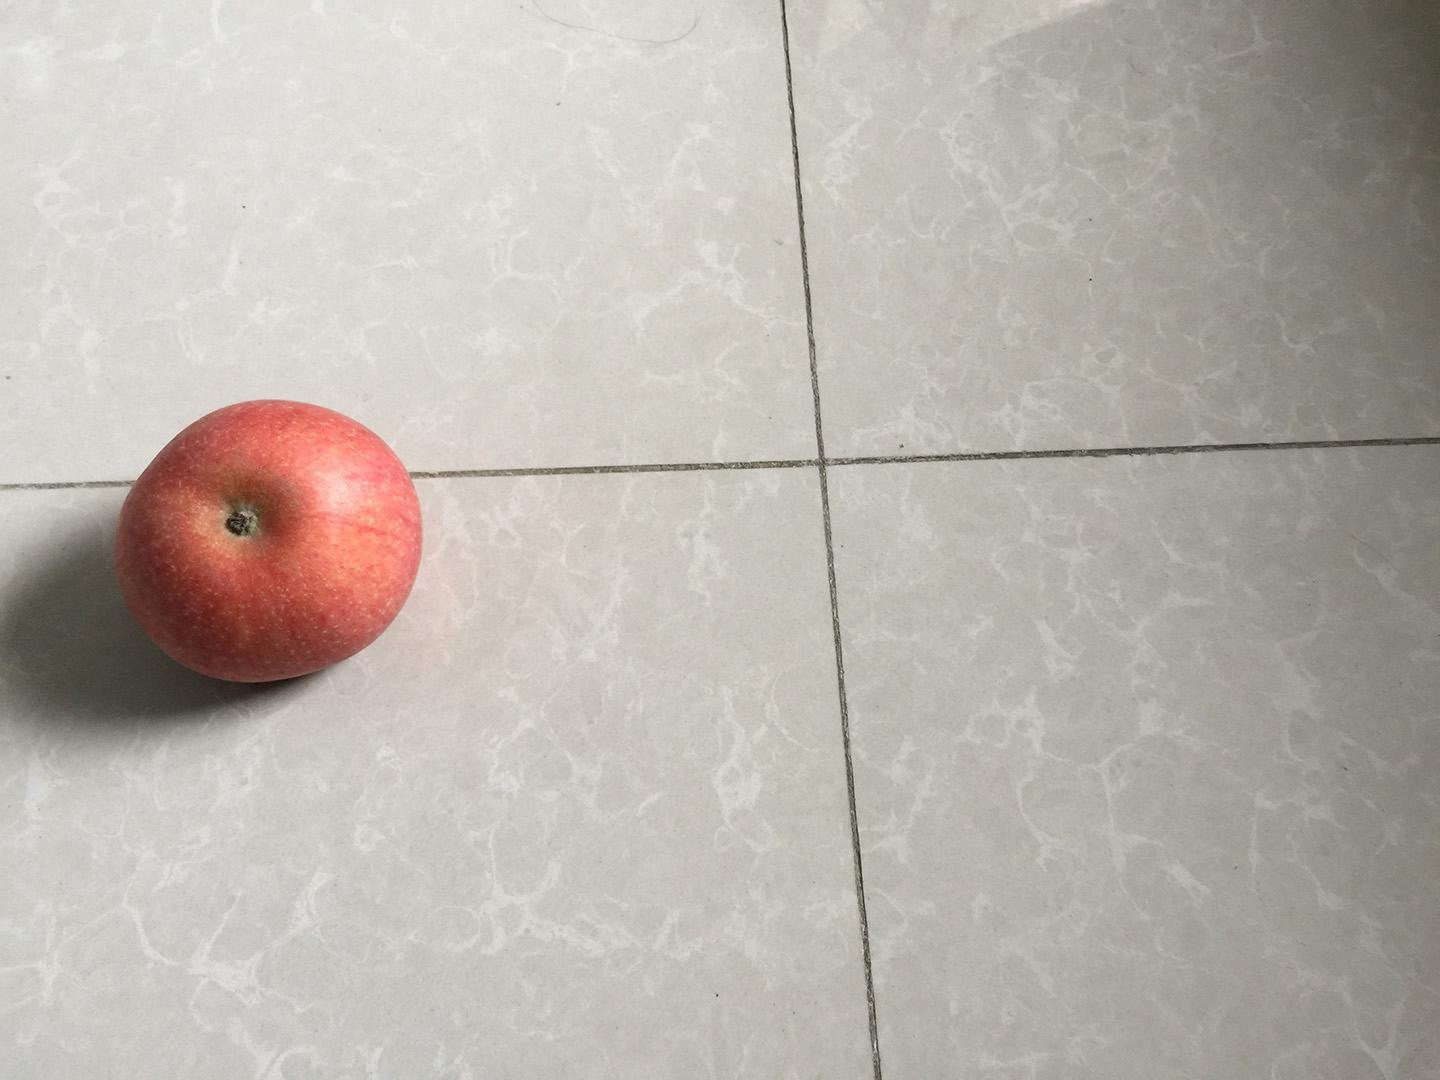apple: (104, 390, 431, 690)
